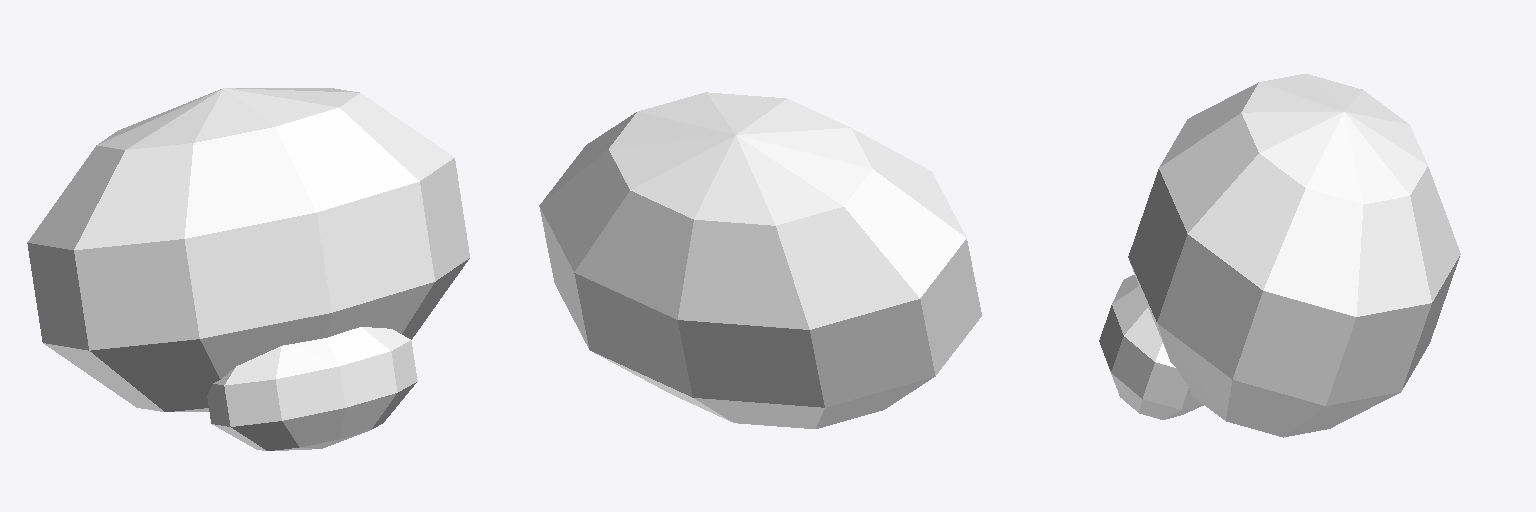
File: Skull.obj
The picture shows the model from 3 angles: view 1: azimuth 30°, elevation 25°; view 2: azimuth 150°, elevation 25°; view 3: azimuth 270°, elevation 25°; orthographic projection.
Parts seen in each view (by area): view 1: Sphere001.001; view 2: Sphere001.001; view 3: Sphere001.001.
Part boxes in pixels (left/top/right/bottom): Sphere001.001: left=27, top=88, right=469, bottom=450; Sphere001.001: left=539, top=92, right=981, bottom=428; Sphere001.001: left=1099, top=74, right=1460, bottom=437.
Size of the model in its own units: 2.61 by 1.89 by 2.14.